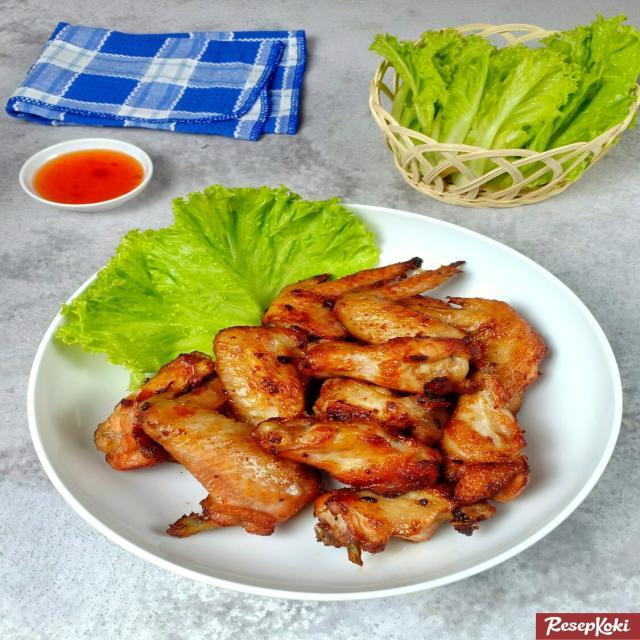ayam_goreng: (106, 242, 560, 560)
